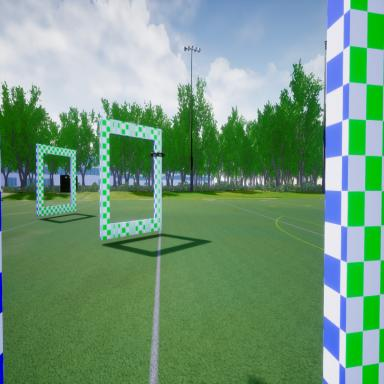gate: (98, 114, 165, 245), (34, 137, 78, 222)
